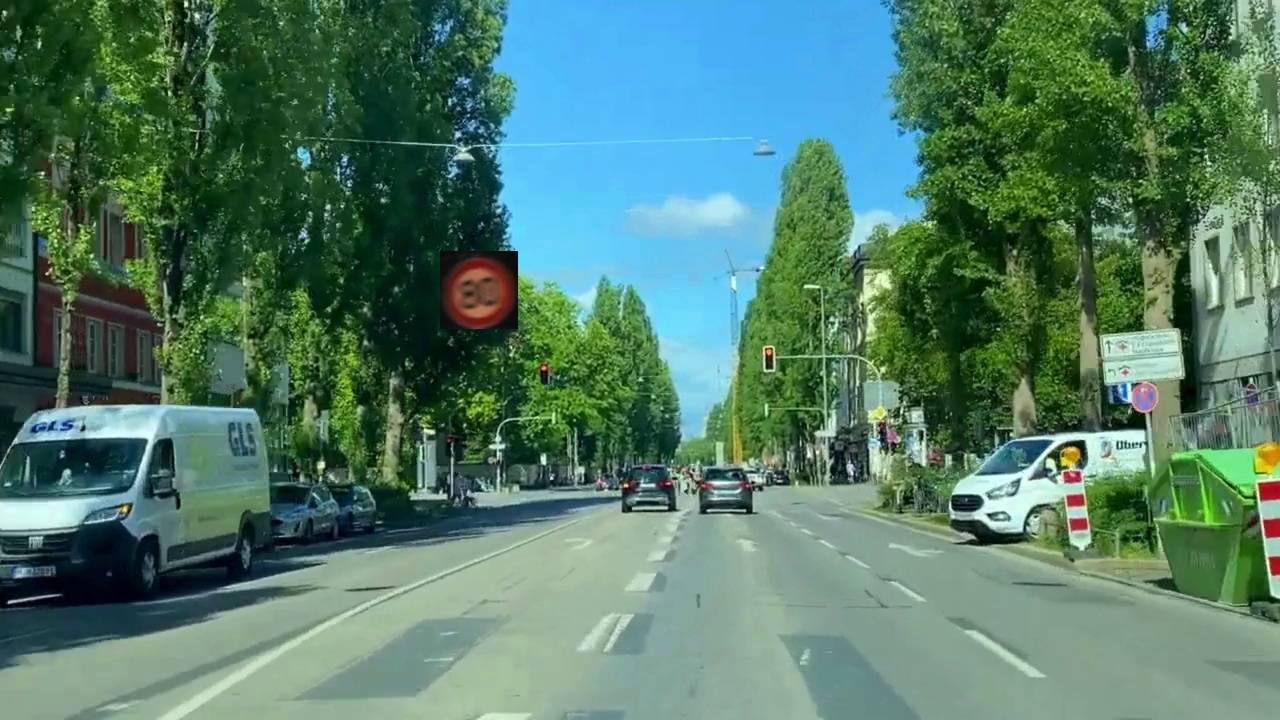Speed 80: (440, 251, 518, 329)
